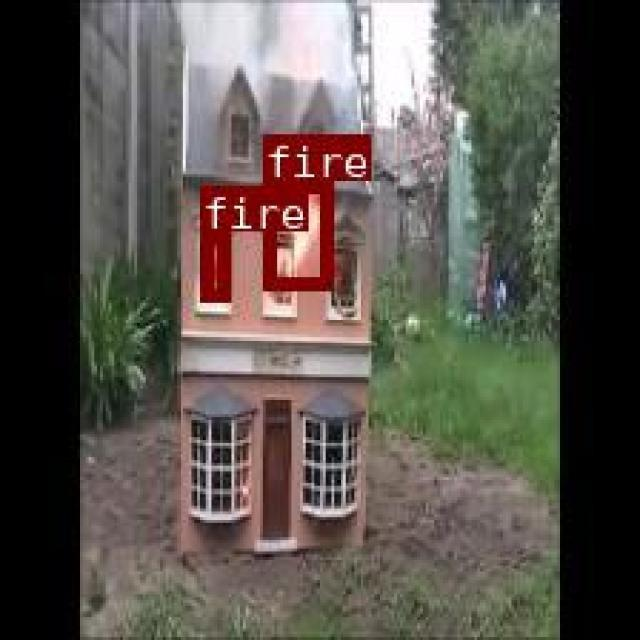fire: (263, 179, 329, 286), (198, 231, 227, 299)
